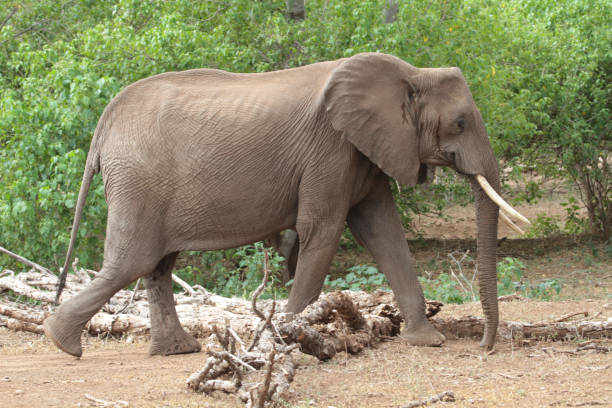africanelephant: (343, 61, 530, 226)
